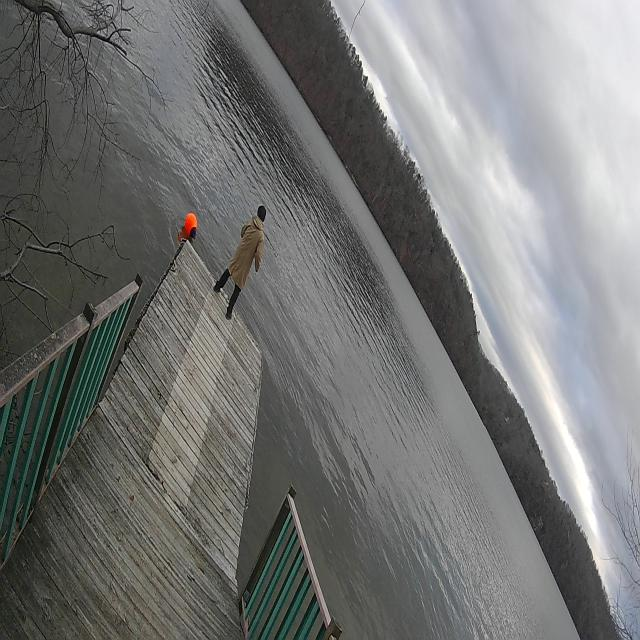Buoy: (182, 208, 200, 246)
